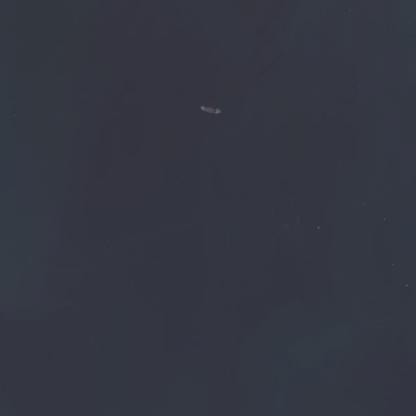ship: (197, 104, 224, 115)
